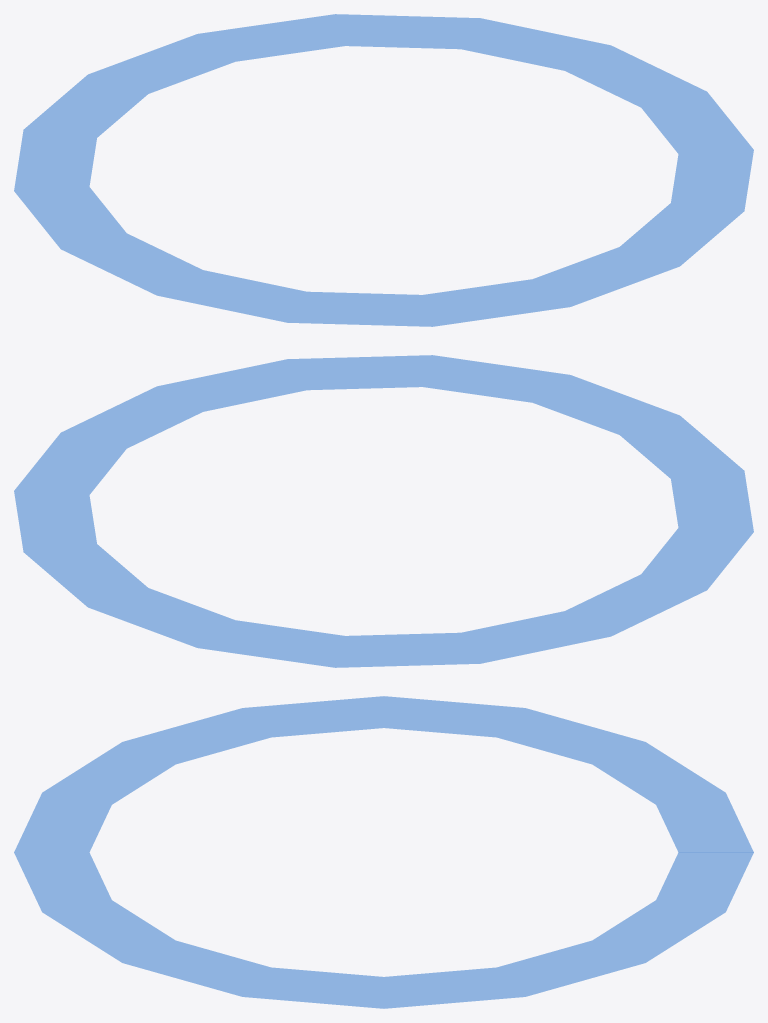
Rendered from self_marker_blue.glb.
The picture shows the model from 3 angles, top to bottom: view 1: azimuth 30°, elevation 25°; view 2: azimuth 150°, elevation 25°; view 3: azimuth 270°, elevation 25°; orthographic projection.
Visible parts, largest first — view 1: marker_blue; view 2: marker_blue; view 3: marker_blue.
Part boxes in pixels (x1=…): marker_blue: x1=14, y1=14, x2=753, y2=326; marker_blue: x1=14, y1=355, x2=753, y2=667; marker_blue: x1=14, y1=696, x2=753, y2=1008.
Size of what is drawn, in the model's own units: 1.01 by 0 by 1.01.
